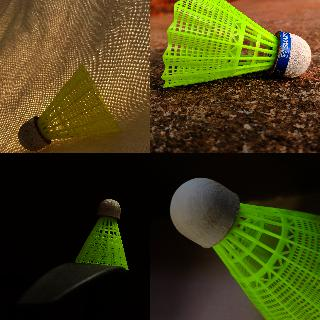shuttlecock: (169, 177, 319, 319), (160, 0, 312, 89), (18, 64, 120, 150), (74, 199, 128, 269)
